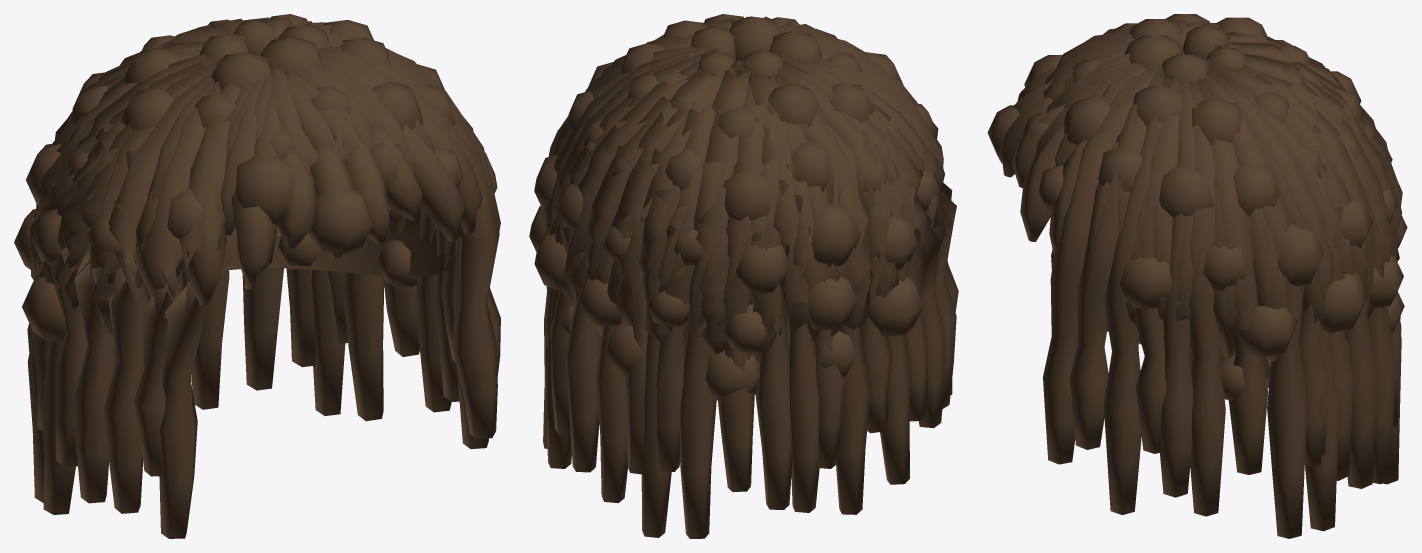
The model's file is pelos.glb.
3 views of the same model, side by side, from view 1: azimuth 30°, elevation 25°; view 2: azimuth 150°, elevation 25°; view 3: azimuth 270°, elevation 25° (orthographic). The views are drawn at different scales.
Parts seen in each view (by area): view 1: Pelo2, Pelo4, Pelo3, Pelo1; view 2: Pelo2, Pelo4, Pelo1, Pelo3; view 3: Pelo2, Pelo4, Pelo1, Pelo3.
Part boxes in pixels (x1,y1,x2,y2): Pelo2: (27,17,500,538); Pelo4: (14,14,497,341); Pelo3: (30,92,482,334); Pelo1: (36,23,449,326); Pelo2: (540,17,958,538); Pelo4: (529,14,940,401); Pelo1: (543,16,942,365); Pelo3: (540,100,945,354); Pelo2: (1043,19,1401,538); Pelo4: (987,14,1407,400); Pelo1: (1036,22,1402,366); Pelo3: (1000,67,1400,360).
Size of the model in its own units: 2.45 by 2.72 by 2.3.
